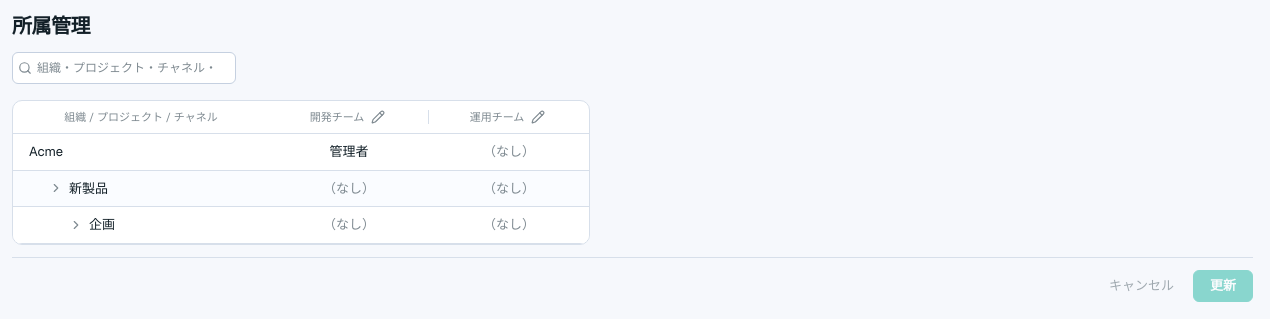
MembershipsAdminScreen › 編集アイコンを再クリックで参照モードへ戻り、キャンセルでsnapshotへ戻す
The image size is (1270, 319).
Click the button named "管理グループ 開発チーム を編集": click(378, 117) [368,107,388,127]
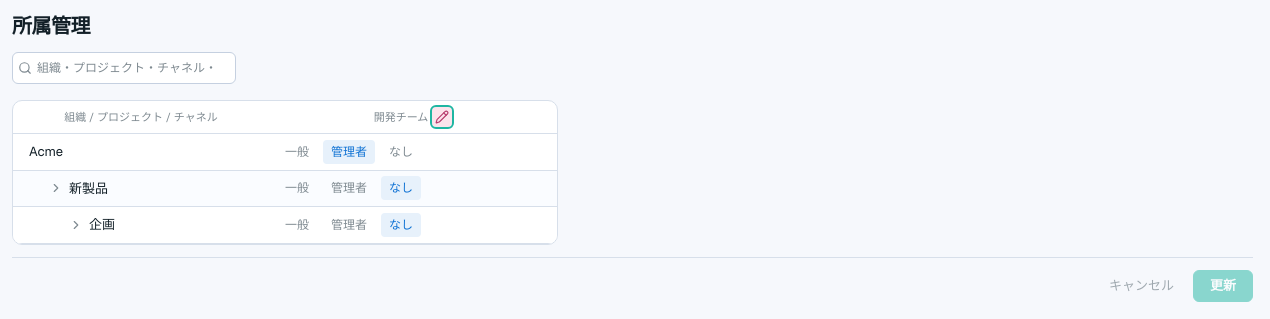
Click the radio button labelled "一般" in the row of "新製品": click(297, 188) [277,176,317,200]
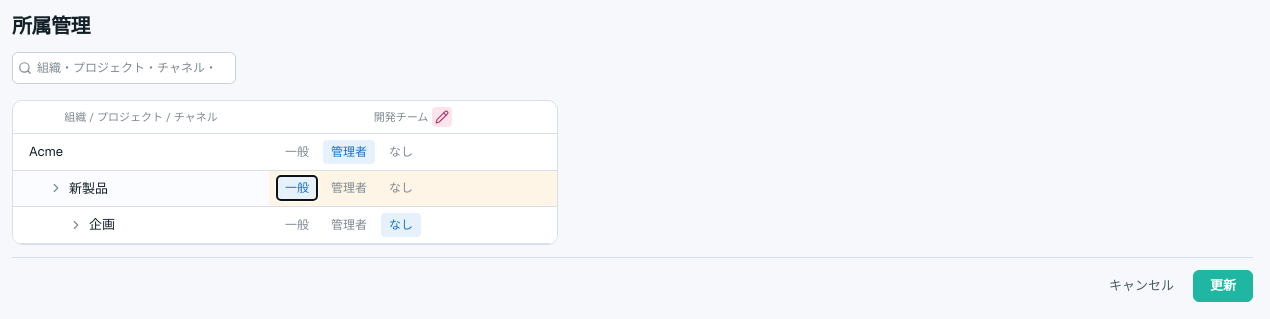
Expected: the button "更新" is enabled, [1193,270,1253,302]
Click the button named "管理グループ 開発チーム を編集": click(442, 117) [432,107,452,127]
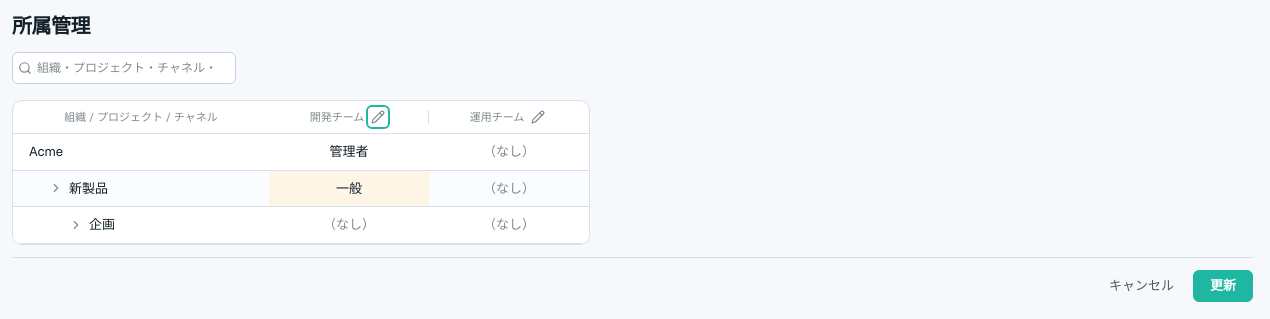
Expected: the button "更新" is enabled, [1193,270,1253,302]
Expected: the column heading "運用チーム" is shown, [429,101,589,134]
Click the button "キャンセル": click(1142, 286) [1098,270,1185,302]
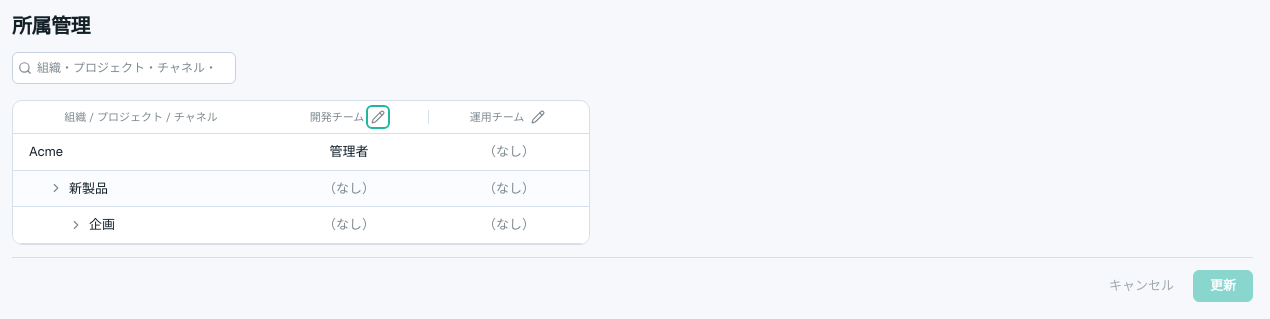
Expected: the button "更新" is disabled, [1193,270,1253,302]
